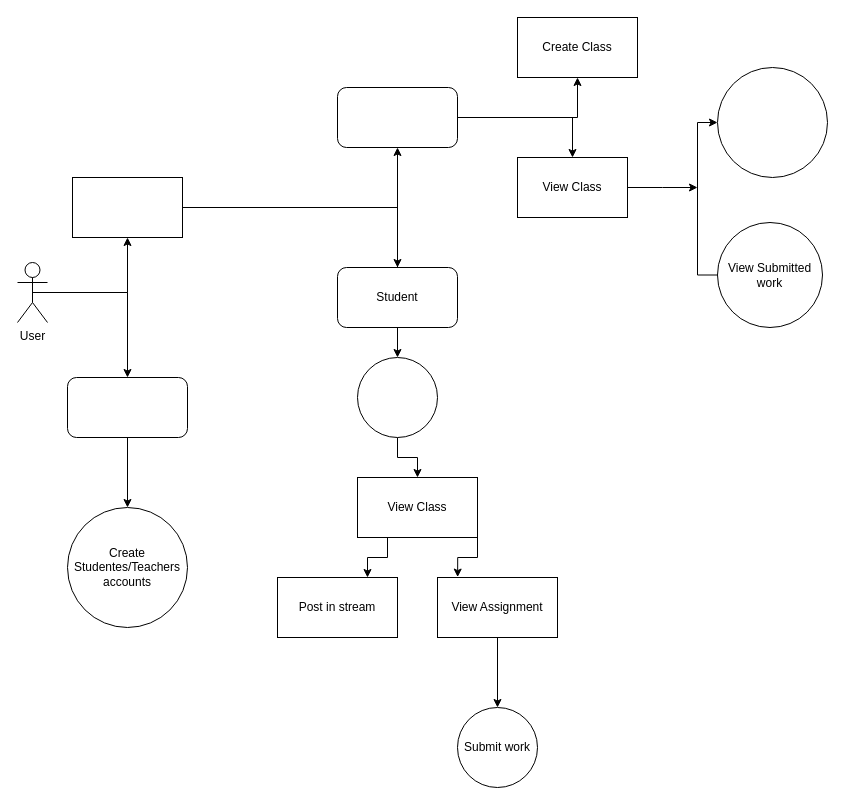
The diagram is 845 pixels wide and 805 high, and some of its shapes have lost their labels. Each missing label, with the centre of its shape:
Admin Interface: the point at 127,407
Login: the point at 127,207
Post Assignment: the point at 772,122
Register for class: the point at 397,397
Teacher: the point at 397,117
